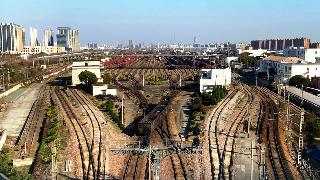train: (138, 96, 171, 135)
